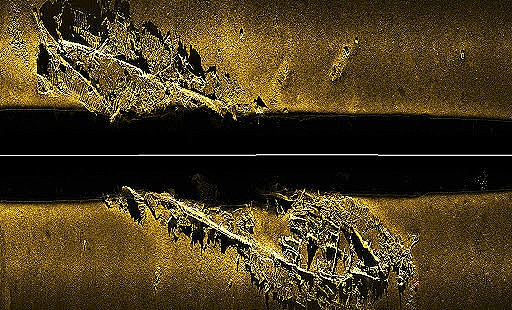ship: (33, 10, 391, 289)
